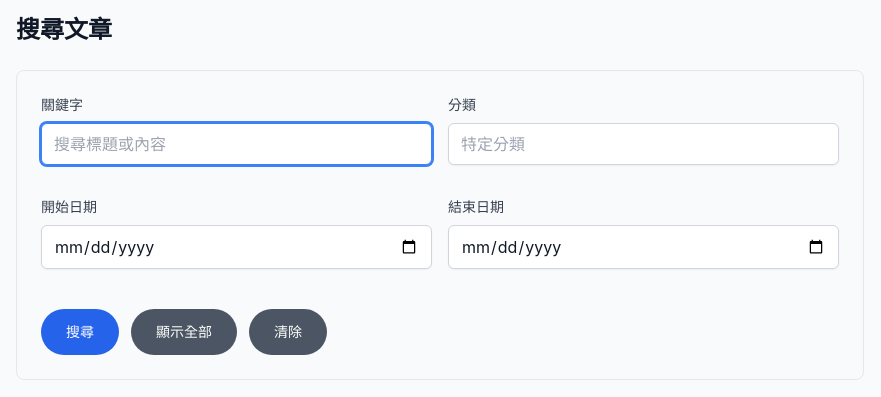
Test case: ArticleSearch › should clear search form when clear button is clicked
In the field with id "keyword": coordinates (236, 144) x1=41 y1=123 x2=432 y2=165, type "Vue.js"
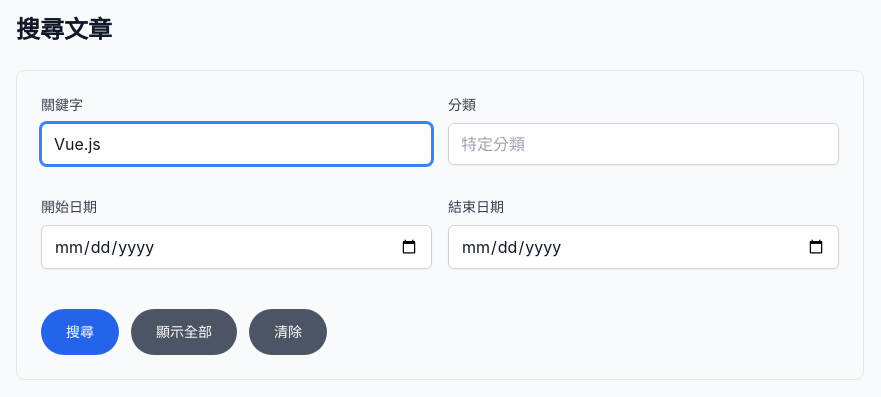
In the field with id "category": coordinates (644, 144) x1=448 y1=123 x2=839 y2=165, type "技術"
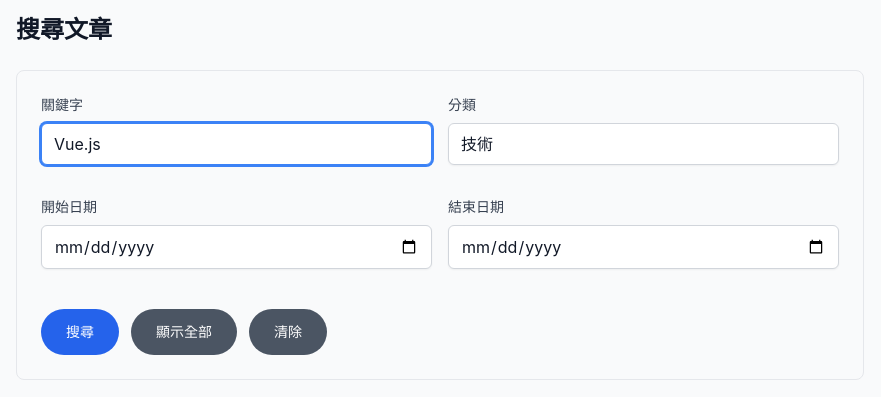
In the date field with id "dateFrom": coordinates (236, 247) x1=41 y1=225 x2=432 y2=269, type "2024-01-01"
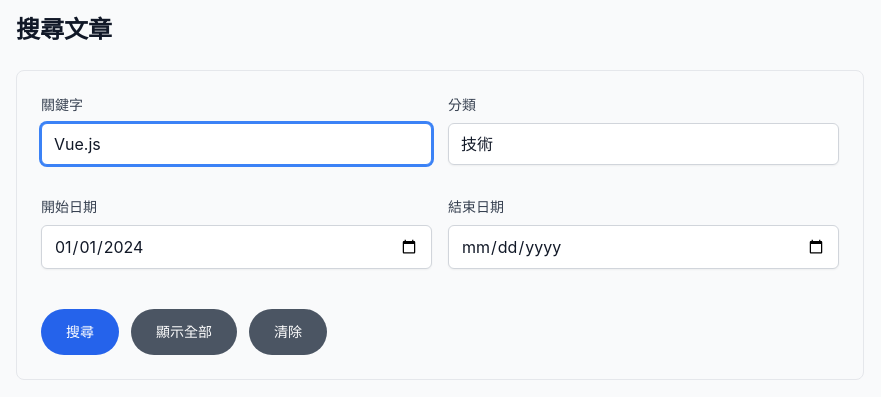
Click the button "清除": coordinates (288, 332) x1=249 y1=309 x2=327 y2=355
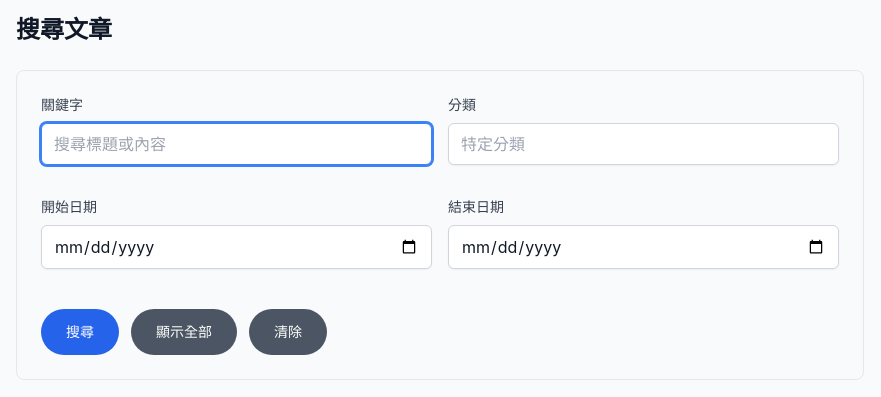
Now the field with id "keyword" is empty, box x1=41 y1=123 x2=432 y2=165
Now the field with id "category" is empty, box x1=448 y1=123 x2=839 y2=165
Now the date field with id "dateFrom" is empty, box x1=41 y1=225 x2=432 y2=269
